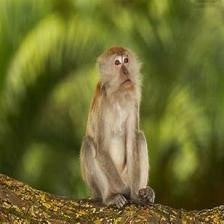monkey: (85, 45, 157, 207)
